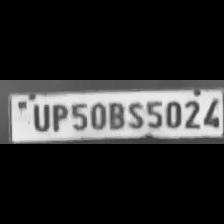0: (162, 98, 182, 128), (88, 100, 106, 130)
2: (182, 97, 200, 129)
4: (200, 96, 222, 128)
5: (67, 100, 87, 132), (144, 98, 162, 128)
B: (106, 100, 126, 130)
P: (48, 102, 68, 132)
S: (126, 99, 144, 129)
U: (28, 100, 50, 132)
